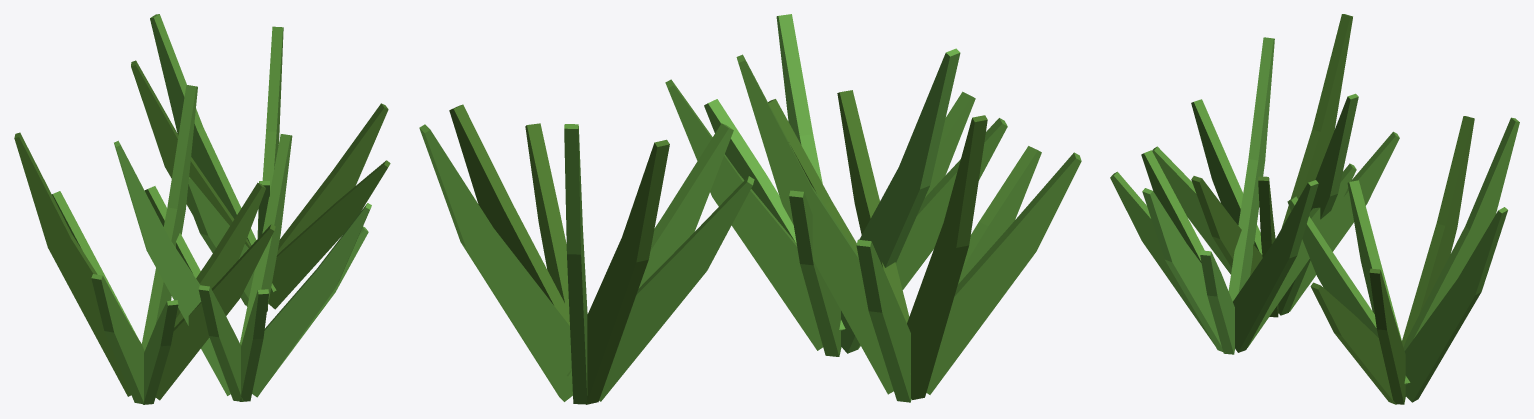
File: desert_grass_green.glb
3 views of the same model, side by side, from view 1: azimuth 30°, elevation 25°; view 2: azimuth 150°, elevation 25°; view 3: azimuth 270°, elevation 25° (orthographic). The views are drawn at different scales.
Visible parts, largest first — view 1: desert_grass_green; view 2: desert_grass_green; view 3: desert_grass_green.
Part boxes in pixels (left/top/right/bottom): desert_grass_green: left=14, top=14, right=390, bottom=404; desert_grass_green: left=419, top=14, right=1081, bottom=404; desert_grass_green: left=1110, top=14, right=1519, bottom=404.
Size of the model in its own units: 1.05 by 0.681 by 0.9733.
